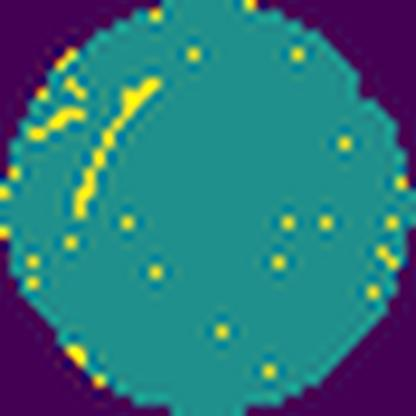Scratch: (71, 73, 168, 224), (28, 101, 87, 144)
